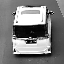motor: (18, 9, 54, 58)
